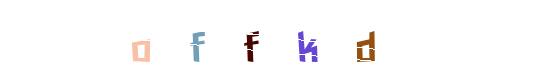D: (317, 0, 397, 80)
F: (211, 0, 291, 80), (224, 0, 304, 80)
K: (232, 0, 312, 80)
O: (152, 0, 232, 80)
